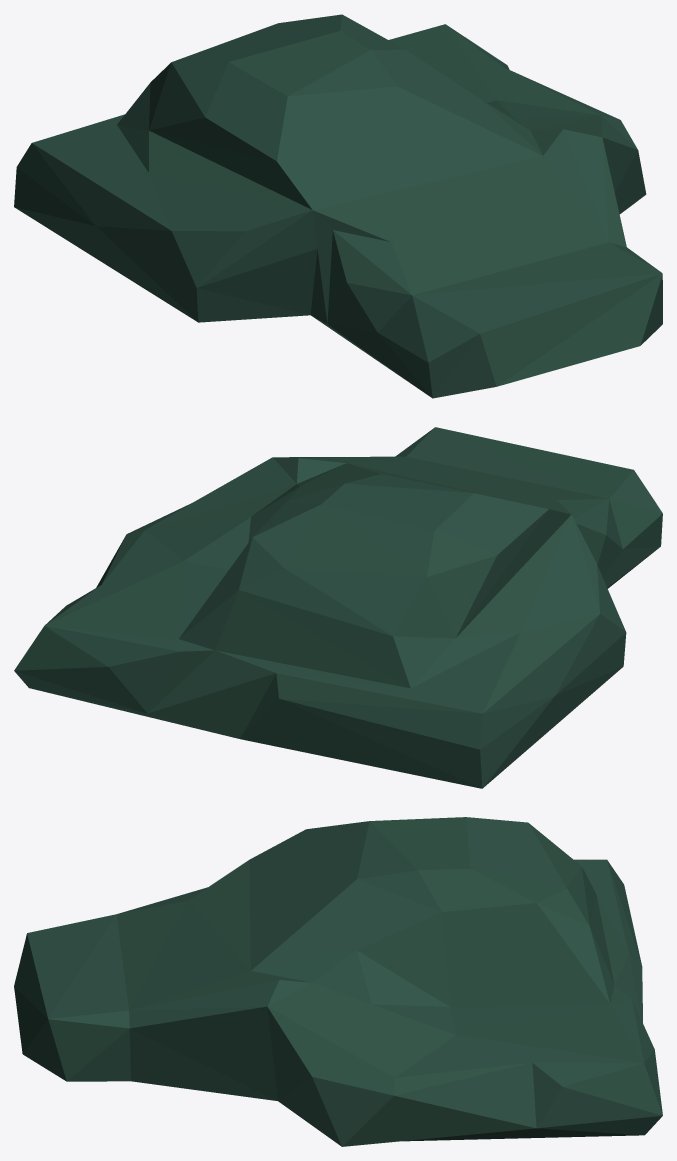
Rendered from SM_large_rock_45.fbx.
3 views of the same model, one above another, from view 1: azimuth 30°, elevation 25°; view 2: azimuth 150°, elevation 25°; view 3: azimuth 270°, elevation 25° (orthographic). The views are drawn at different scales.
Visible parts, largest first — view 1: large_rock_45; view 2: large_rock_45; view 3: large_rock_45.
Boxes of the visible parts, x1,y1,x2,y2 form: large_rock_45: (14,14,662,398); large_rock_45: (14,427,662,788); large_rock_45: (14,817,662,1146).
Bounding box in the file's own units: 72.91 × 25.09 × 87.69.
